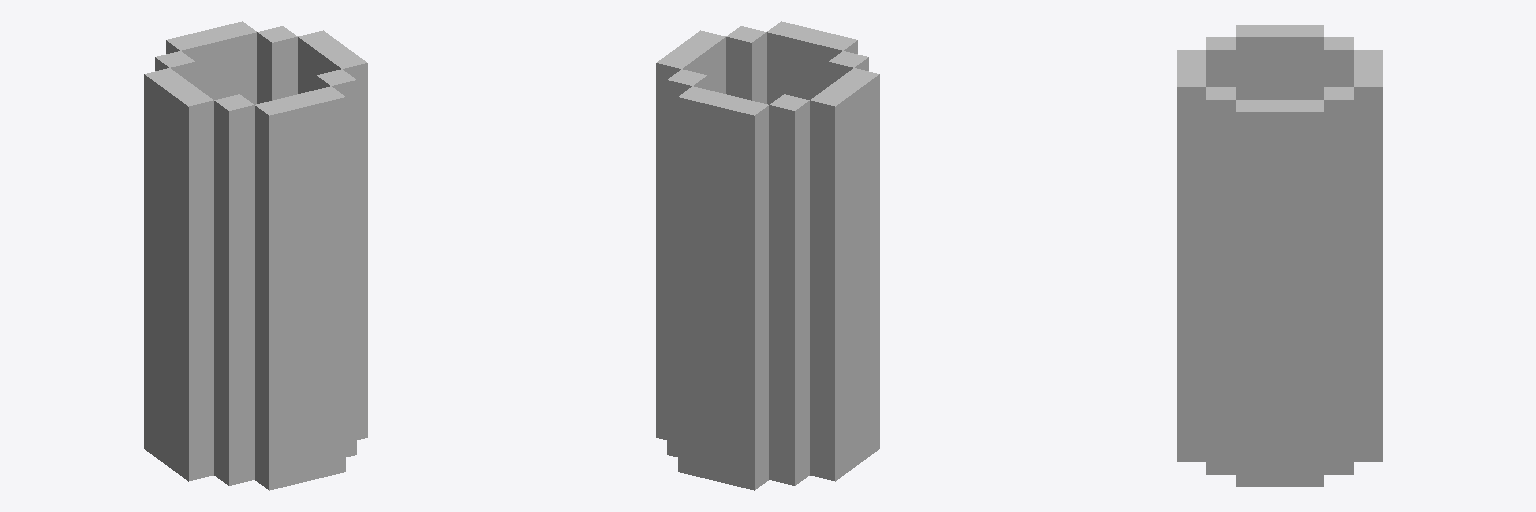
The model's file is bolt.obj.
3 views of the same model, side by side, from view 1: azimuth 30°, elevation 25°; view 2: azimuth 150°, elevation 25°; view 3: azimuth 270°, elevation 25° (orthographic).
Parts seen in each view (by area): view 1: object 1; view 2: object 1; view 3: object 1.
Boxes of the visible parts, box(x1,y1,x2,y2) form: object 1: box(144, 21, 367, 490); object 1: box(656, 21, 879, 490); object 1: box(1177, 25, 1382, 486).
Size of the model in its own units: 0.7 by 1.4 by 0.7.